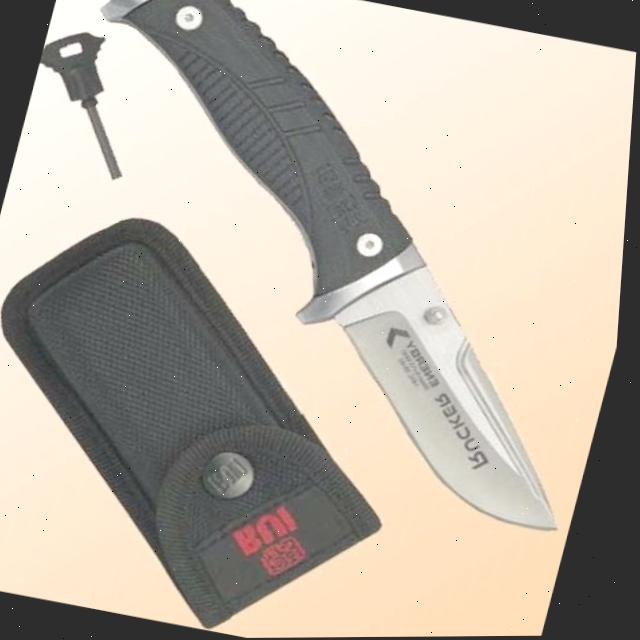knife: (0, 0, 640, 543)
